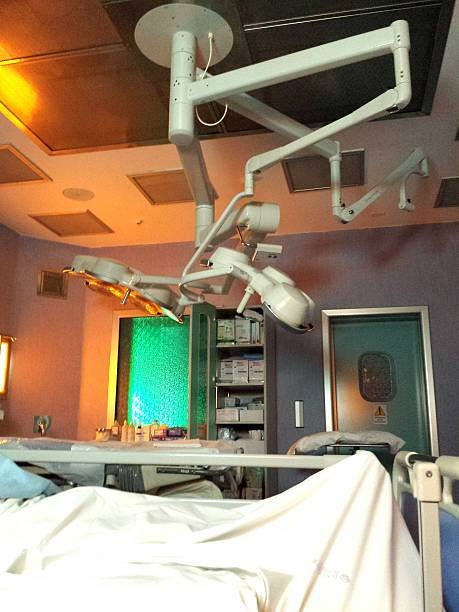bedrail: (392, 449, 459, 600)
cabinet: (217, 306, 271, 497)
dispenser: (110, 419, 122, 442)
hospital_bed: (1, 445, 458, 609)
surgical_light: (199, 244, 317, 337), (62, 254, 189, 323)
